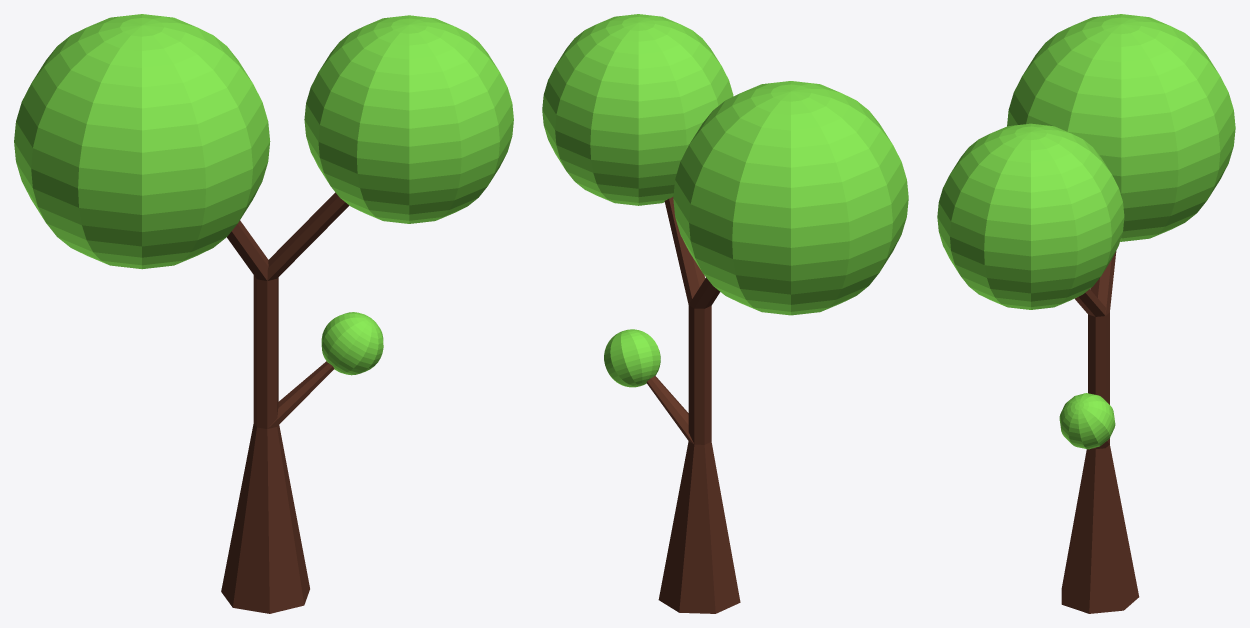
Rendered from Tree.fbx.
The picture shows the model from 3 angles, left to right: view 1: azimuth 30°, elevation 25°; view 2: azimuth 150°, elevation 25°; view 3: azimuth 270°, elevation 25°; orthographic projection. The views are drawn at different scales.
Parts seen in each view (by area): view 1: Cylinder.006; view 2: Cylinder.006; view 3: Cylinder.006.
Part boxes in pixels (box(x1,y1,x2,y2)): Cylinder.006: box(14, 14, 513, 613); Cylinder.006: box(542, 14, 908, 613); Cylinder.006: box(937, 14, 1235, 613).
Size of the model in its own units: 3.16 by 4.24 by 2.19.
